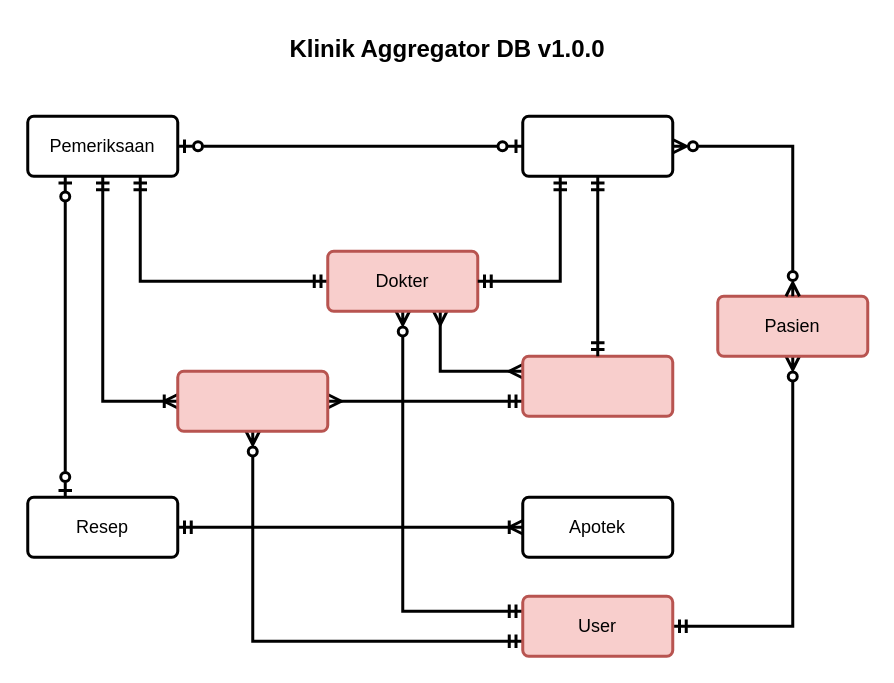
This 894x683 diagram has some shape labels left out. Each missing label, with the centre of its shape:
"Faskes" goes at (x=597, y=385).
"Janji Temu" goes at (x=597, y=145).
"Perawat" goes at (x=252, y=400).
